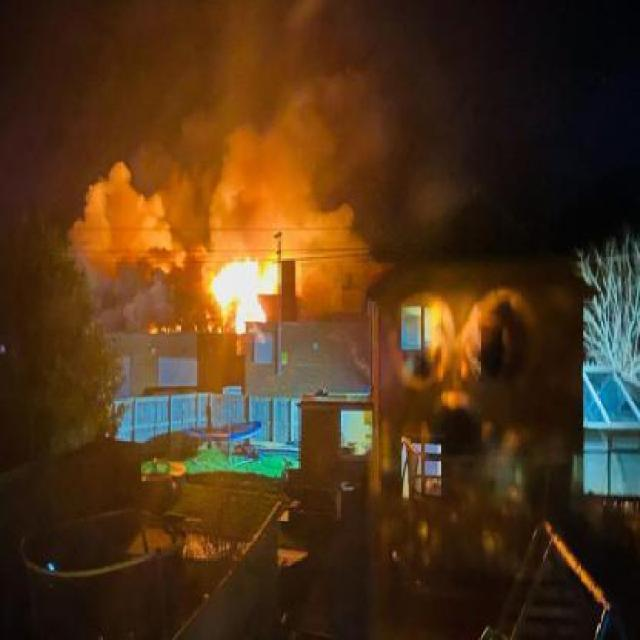Fire: (212, 260, 274, 328)
